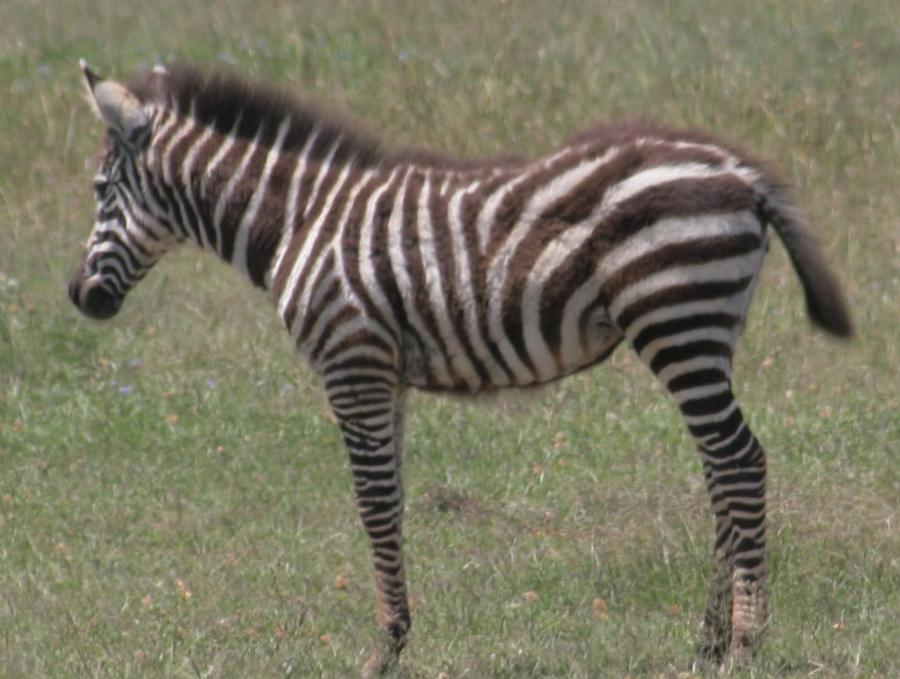zebra_plains: (239, 91, 804, 434)
